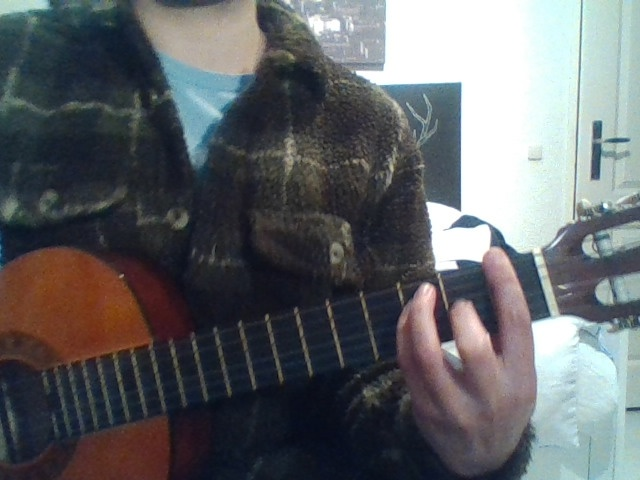F: (382, 234, 573, 480)
